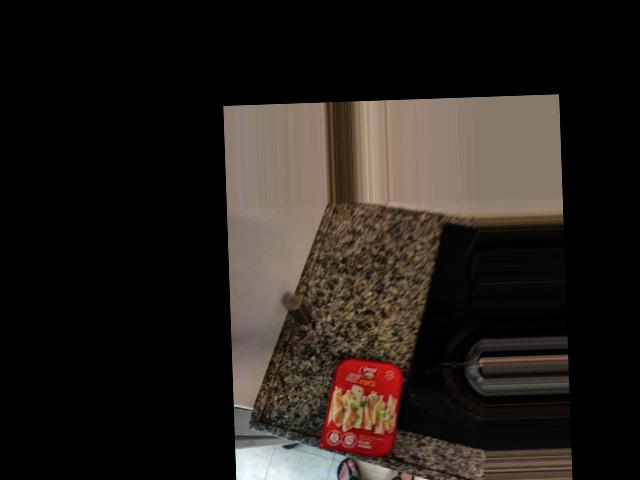cheese: (315, 359, 405, 472)
